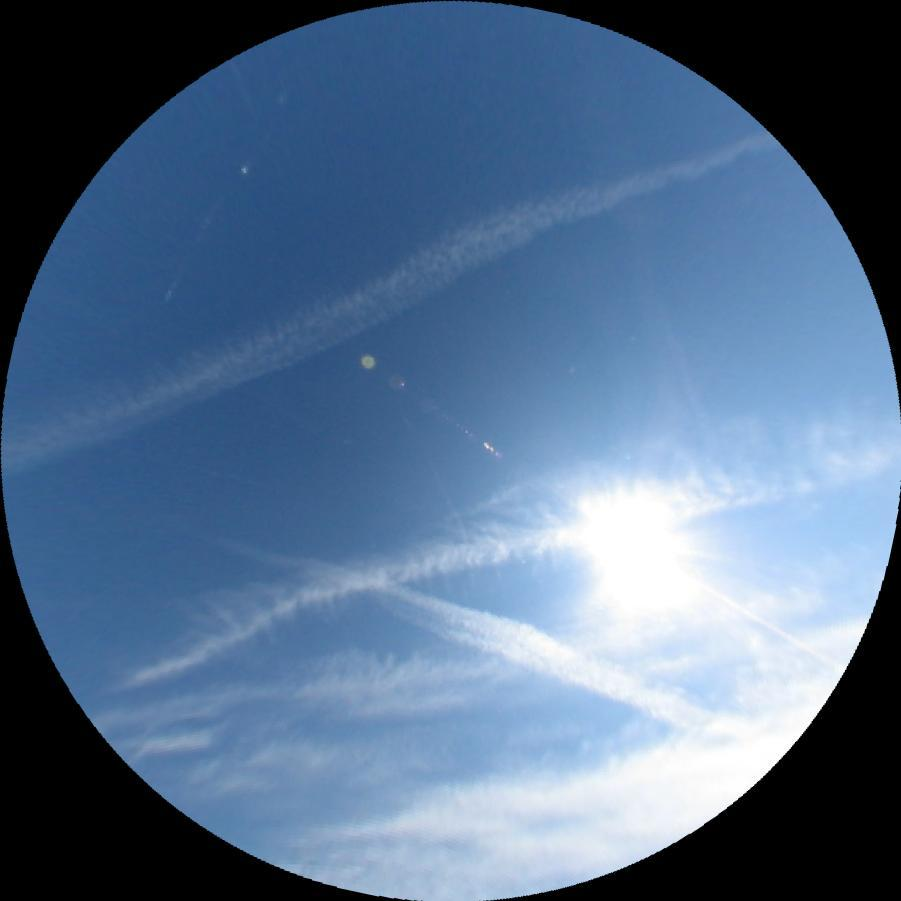contrail veryold: (69, 365, 901, 697), (200, 509, 743, 743)
parasite: (158, 88, 293, 304), (20, 419, 273, 488), (687, 575, 841, 661)
sun: (590, 489, 708, 601)
